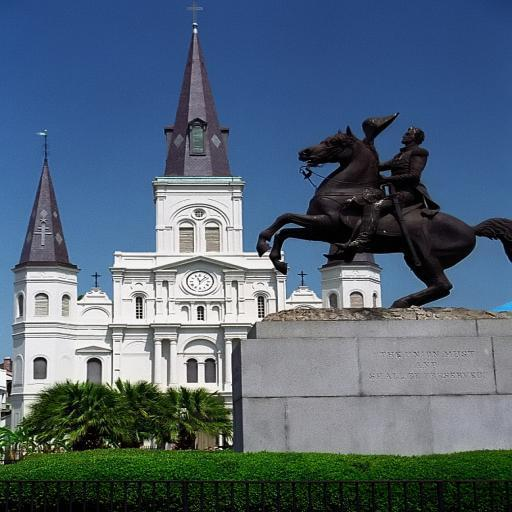horse: (258, 124, 512, 308)
